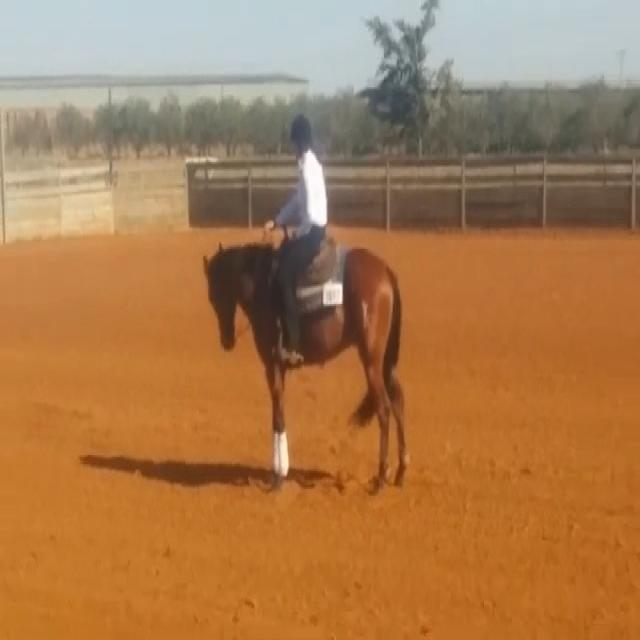horse: (200, 235, 411, 492)
